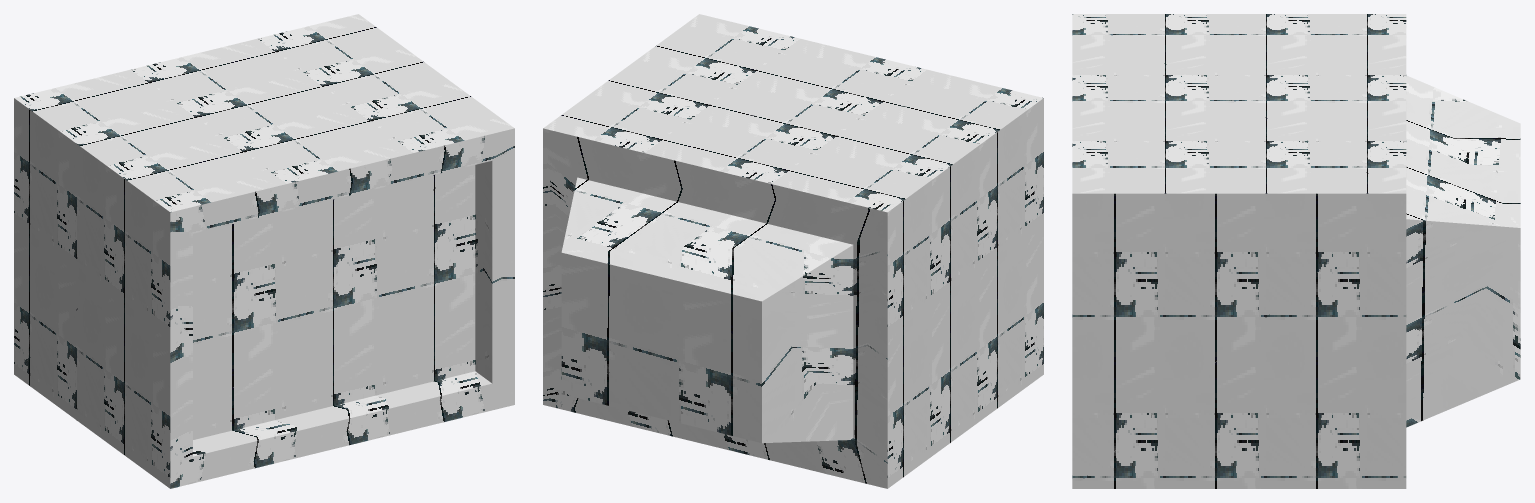
Rendered from ComputerScreen.FBX.
3 renders of one model, left to right at view 1: azimuth 30°, elevation 25°; view 2: azimuth 150°, elevation 25°; view 3: azimuth 270°, elevation 25°, orthographic. The views are drawn at different scales.
Visible parts, largest first — view 1: ComputerScreen; view 2: ComputerScreen; view 3: ComputerScreen.
Part boxes in pixels (bbox=[...]): ComputerScreen: bbox=[14, 14, 514, 488]; ComputerScreen: bbox=[543, 14, 1043, 488]; ComputerScreen: bbox=[1072, 14, 1520, 488].
Size of the model in its own units: 1.29 by 1.36 by 0.986.
1 material, 1 textured.
